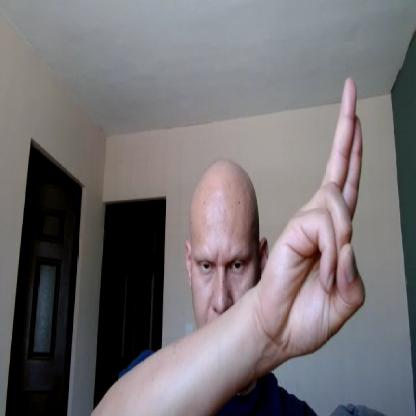U: (259, 74, 368, 362)
